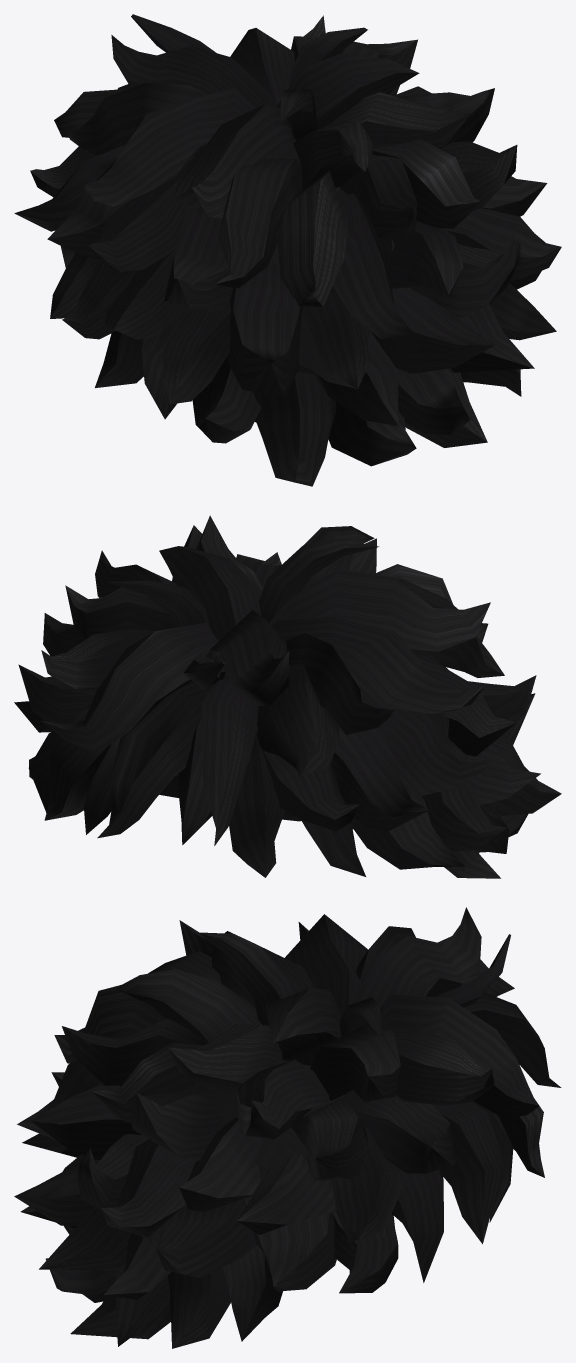
3 renders of one model, top to bottom at view 1: azimuth 30°, elevation 25°; view 2: azimuth 150°, elevation 25°; view 3: azimuth 270°, elevation 25°, orthographic. The views are drawn at different scales.
Visible parts, largest first — view 1: geometry_0; view 2: geometry_0; view 3: geometry_0.
Part boxes in pixels (x1,y1,x2,y2): geometry_0: [14, 14, 561, 486]; geometry_0: [14, 515, 561, 878]; geometry_0: [14, 907, 561, 1348].
Bounding box in the file's own units: 1.85 × 1.29 × 1.85.
Materials: 1 (1 with a texture image).
